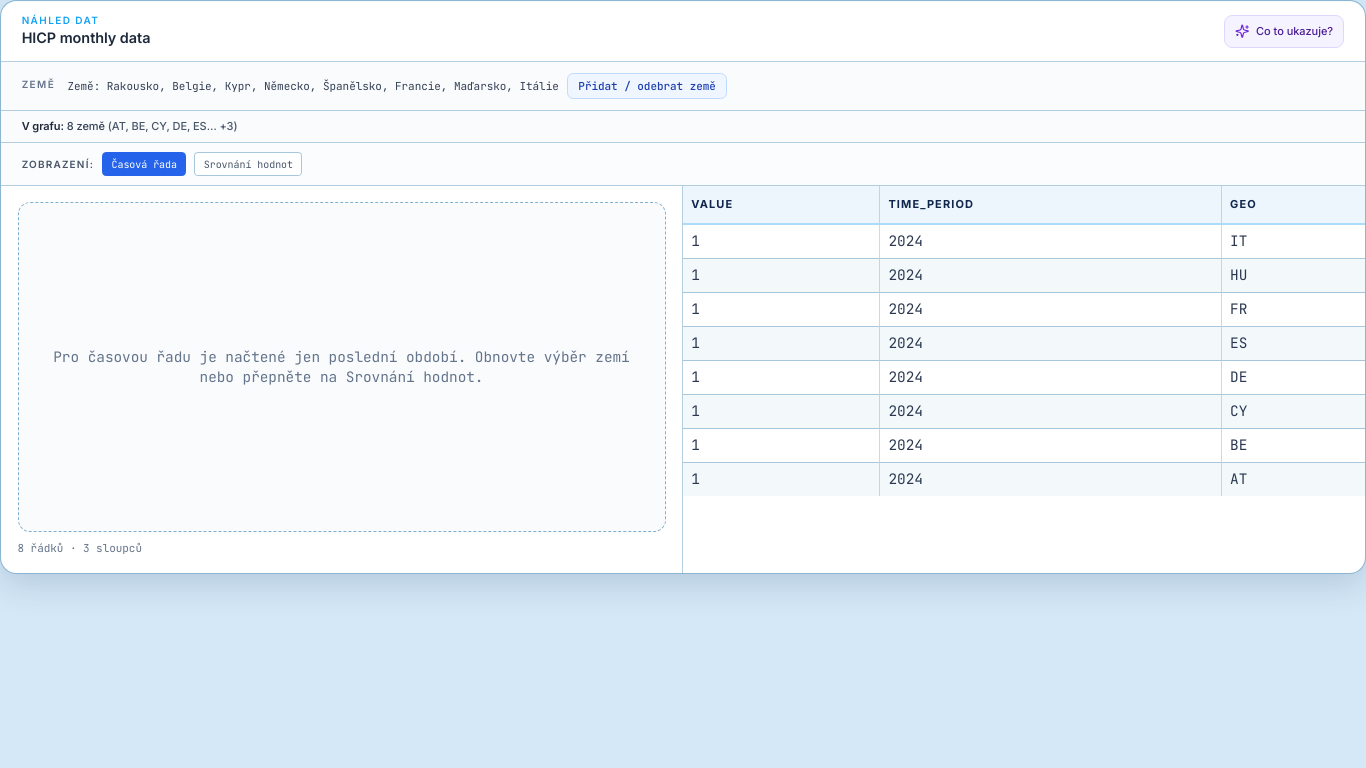
Test: SourcePreview Eurostat filter UX › max geo selection disables adding countries but keeps removal actions enabled
Click the button "Přidat / odebrat země".
click(647, 86)  # box top-left (567, 73), bottom-right (727, 100)
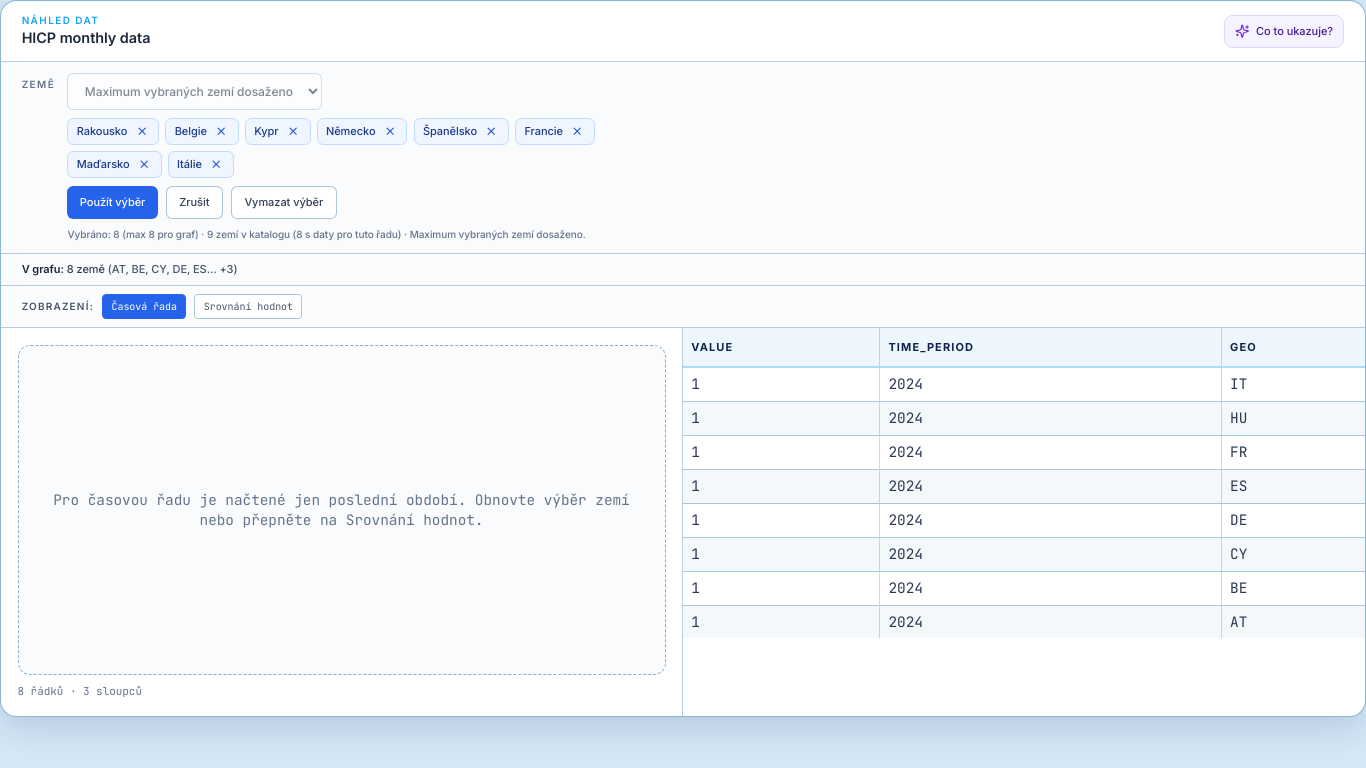
Check: the dropdown is disabled, box top-left (68, 73), bottom-right (322, 110)
Check: the text "Maximum vybraných zemí dosaženo" is shown, box top-left (401, 228), bottom-right (586, 240)
